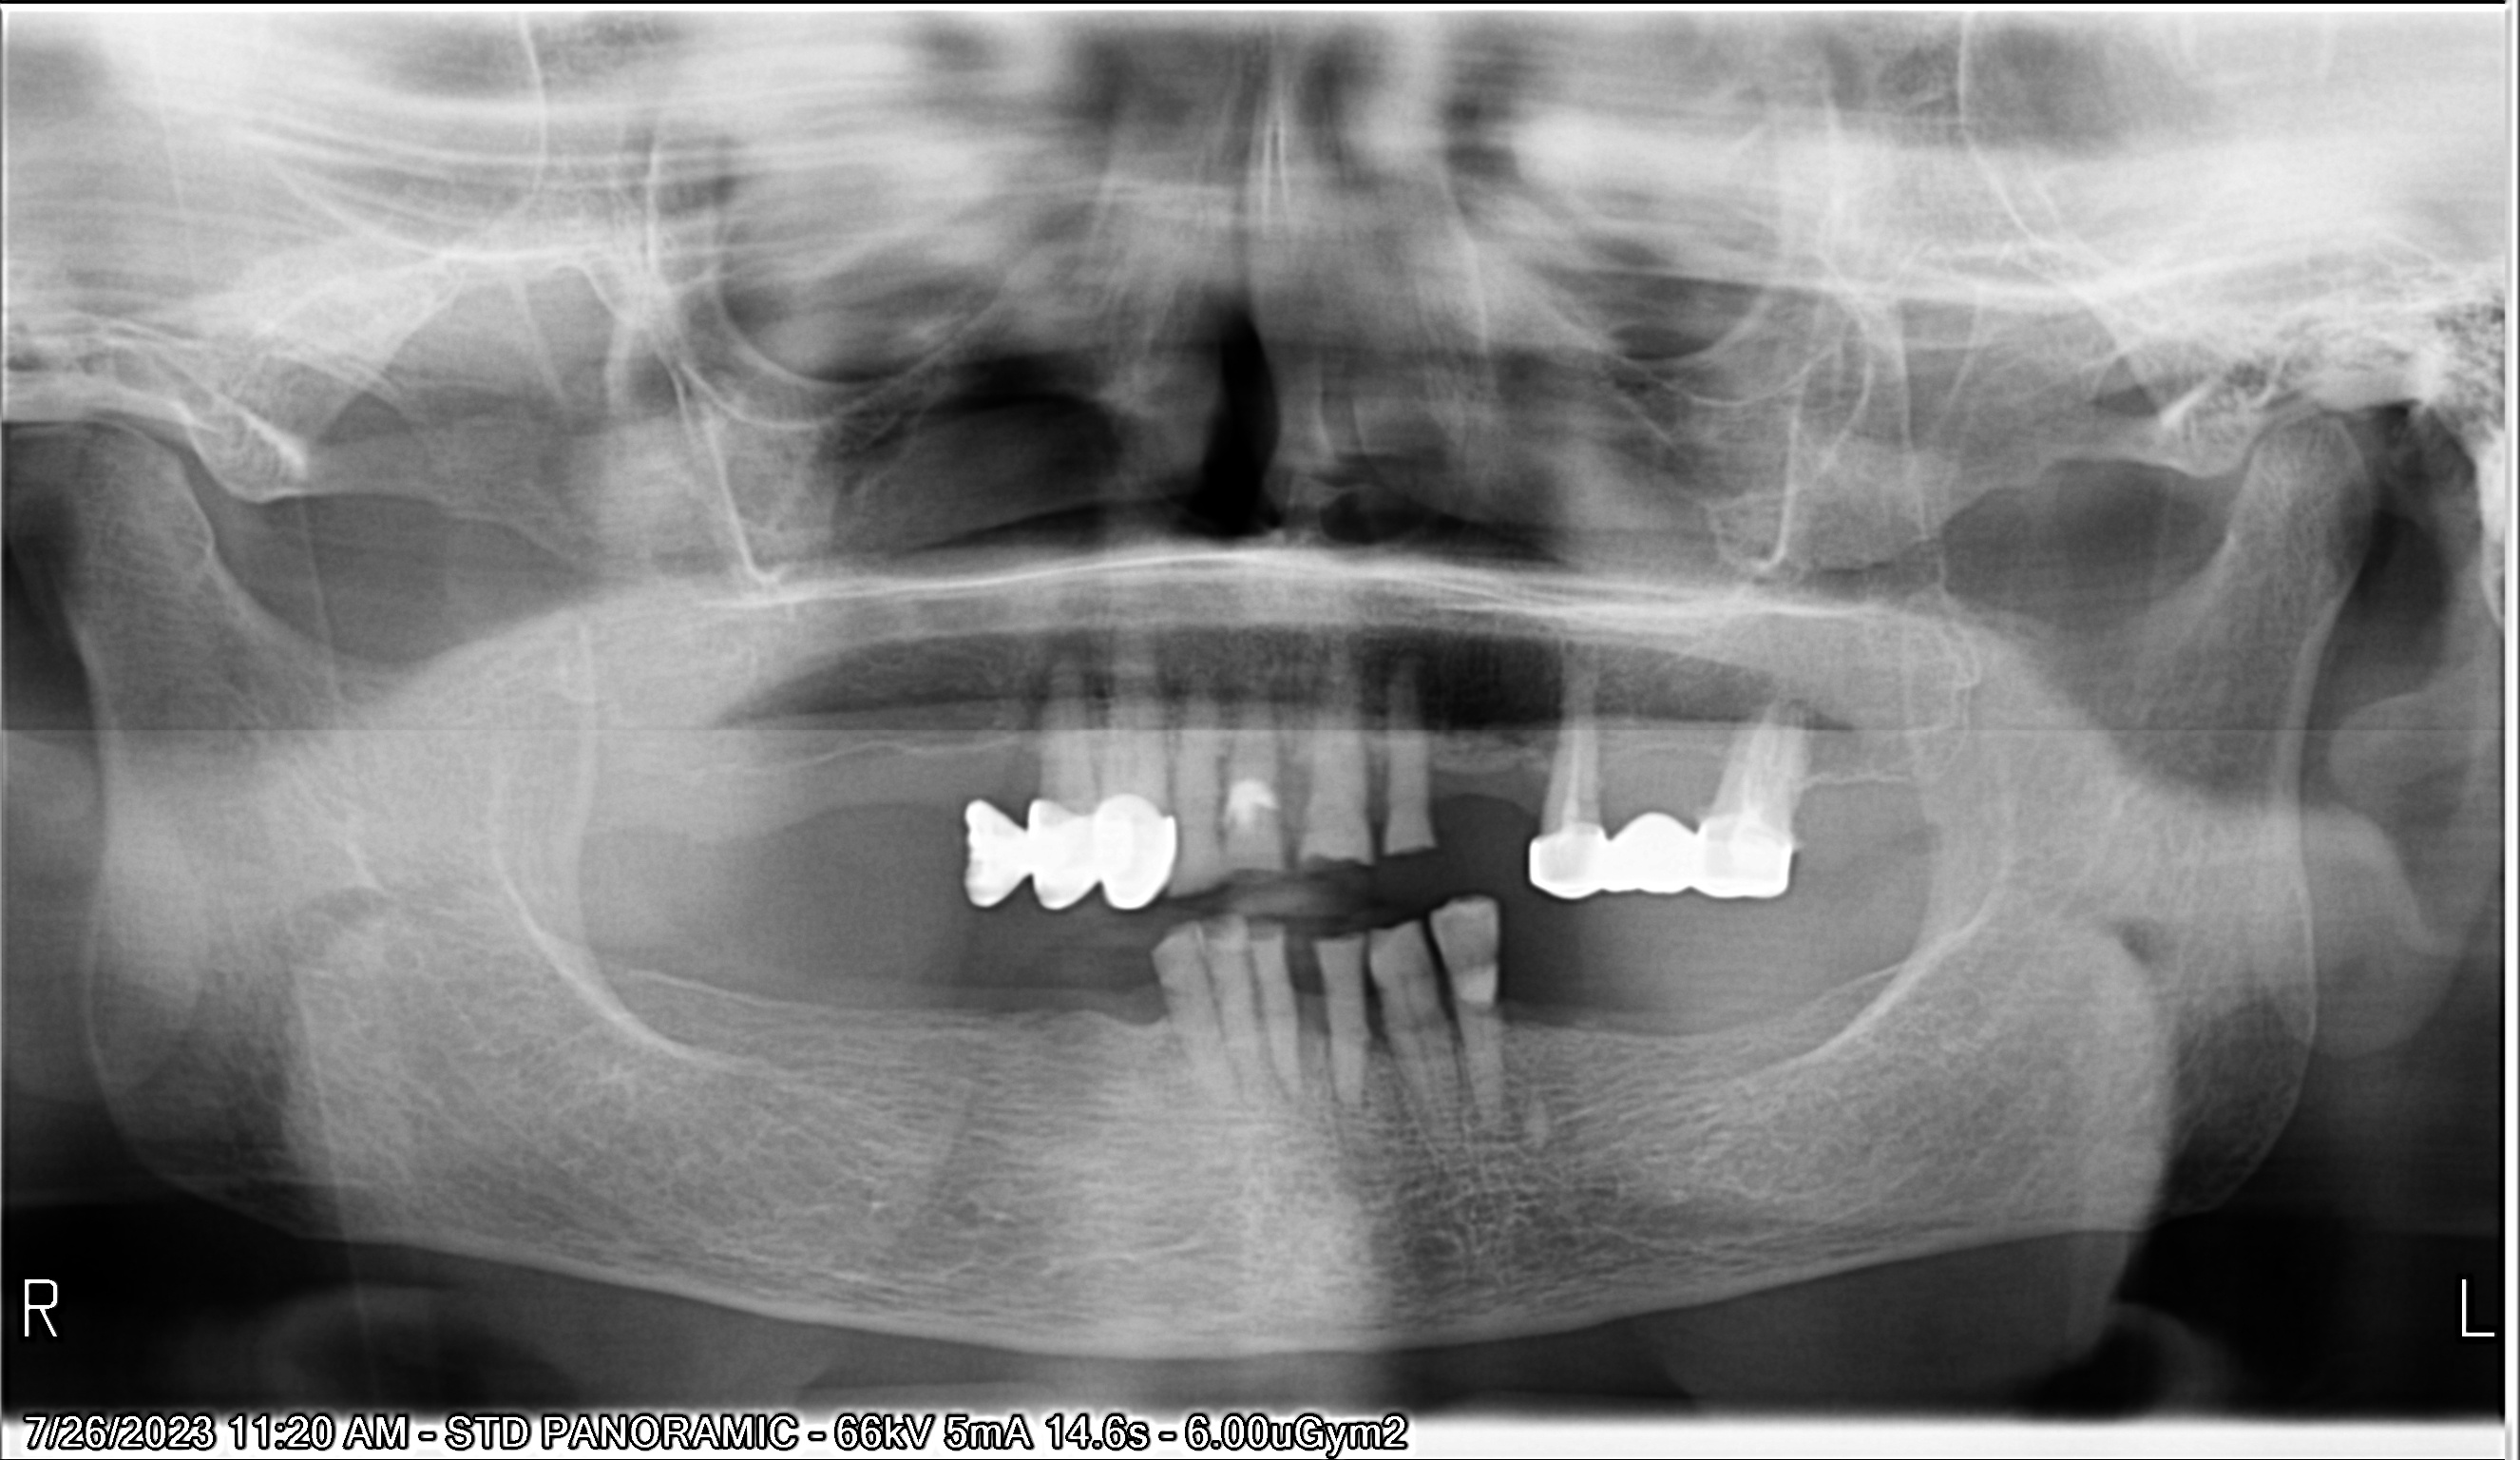BON: (702, 445, 2160, 1460), (669, 462, 2058, 1460), (620, 454, 1947, 1460), (615, 450, 1883, 1460), (596, 471, 1818, 1460), (677, 342, 2063, 1170), (629, 337, 1938, 1149), (604, 355, 1841, 1149), (584, 356, 1752, 1161), (542, 355, 1639, 1151)
CAR: (632, 454, 1999, 1411), (611, 445, 1898, 1394), (592, 438, 1834, 1389)
END: (863, 289, 2520, 1107), (889, 299, 2520, 1116), (766, 250, 2360, 1067)
OBT: (714, 466, 2206, 1460), (570, 393, 1869, 1215)
PRR: (643, 379, 2437, 1279), (382, 346, 1556, 1269)
